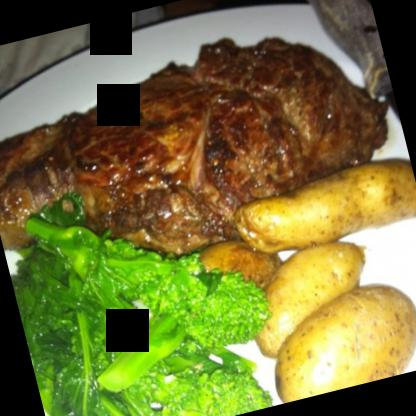potato: (227, 147, 415, 270), (254, 267, 415, 405), (238, 235, 382, 352)
